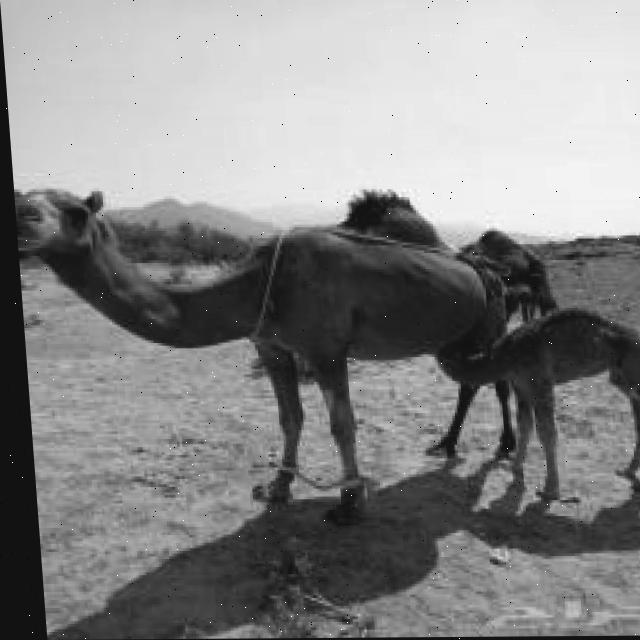Camel: (14, 180, 530, 525), (428, 305, 640, 512)
